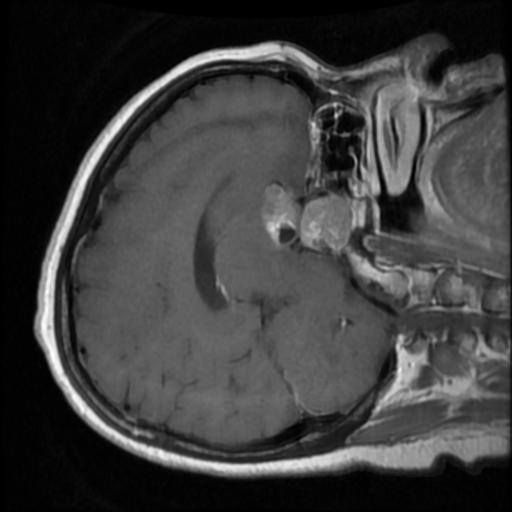pituitary tumour: (263, 184, 354, 250)
